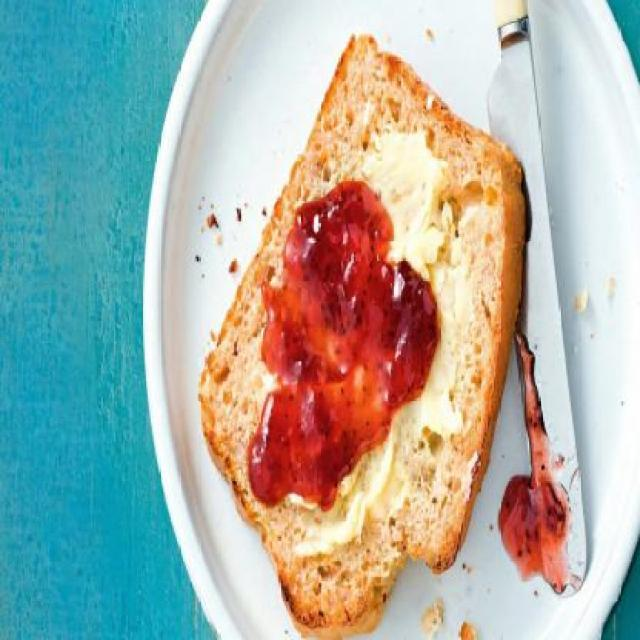Spread: (244, 176, 442, 524)
